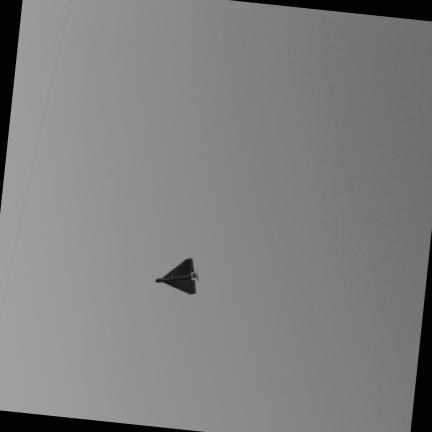Shahed: (155, 259, 197, 293)
